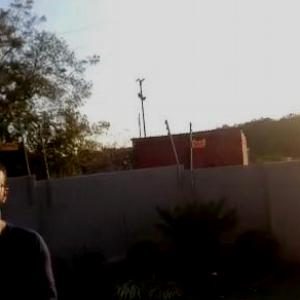follow: (1, 152, 63, 299)
